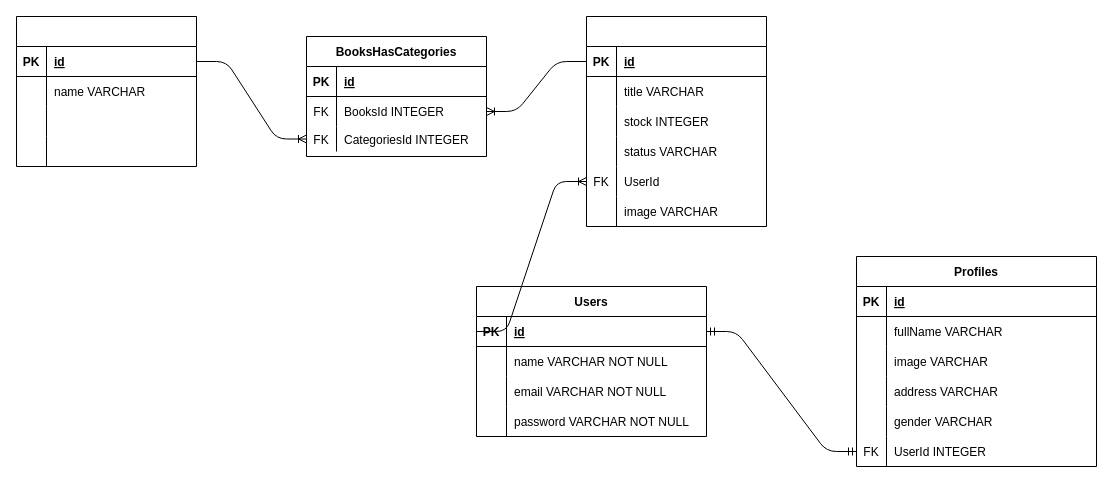
Image size: 1113x483. Some labels were removed from this diagram. The shapes that lost their labels are listed below. From the top down, each one's box as (x1, y1, x2, y2) in pixels, then its label:
(16, 16, 196, 166): Categories
(586, 16, 766, 226): Books
